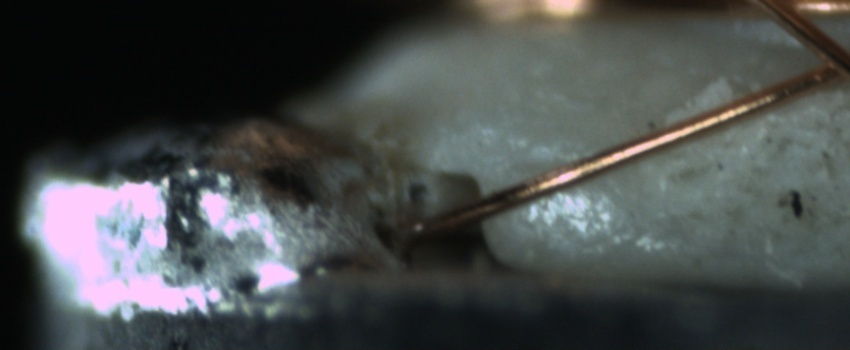CL: (794, 31, 850, 91)
